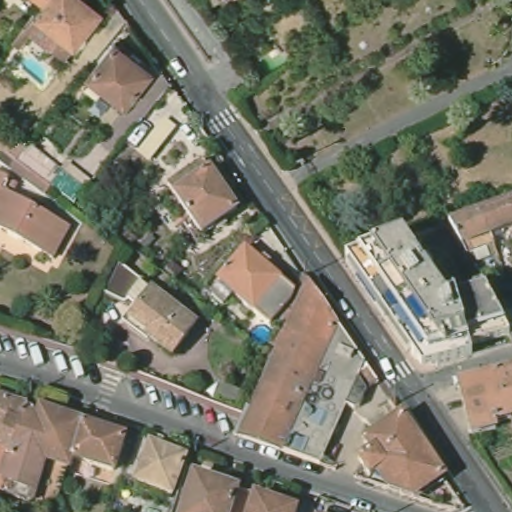pool: (15, 49, 55, 87), (248, 322, 275, 350)
